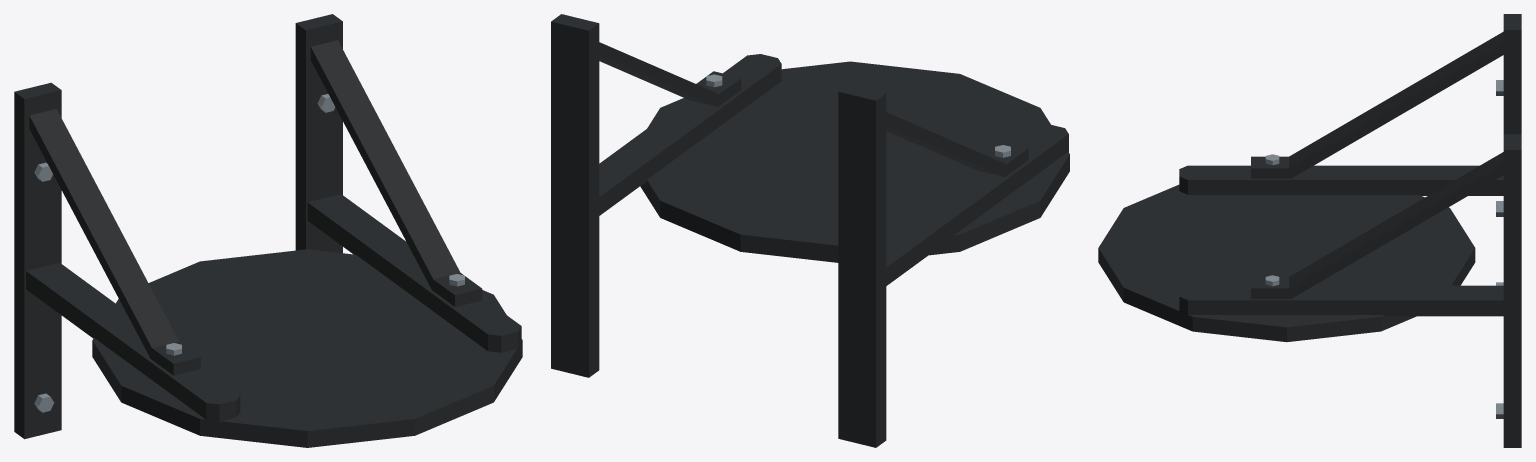
The model's file is SM_Prop_Gym_Speed_Ball_01.obj.
3 views of the same model, side by side, from view 1: azimuth 30°, elevation 25°; view 2: azimuth 150°, elevation 25°; view 3: azimuth 270°, elevation 25° (orthographic). The views are drawn at different scales.
Visible parts, largest first — view 1: SM_Prop_Gym_Speed_Ball_01_0; view 2: SM_Prop_Gym_Speed_Ball_01_0; view 3: SM_Prop_Gym_Speed_Ball_01_0.
Boxes of the visible parts, box(x1,y1,x2,y2) form: SM_Prop_Gym_Speed_Ball_01_0: box(14, 14, 522, 447); SM_Prop_Gym_Speed_Ball_01_0: box(551, 14, 1069, 447); SM_Prop_Gym_Speed_Ball_01_0: box(1098, 14, 1521, 447).
Bounding box in the file's own units: 0.7527 × 0.6566 × 0.8451.
Materials: 1 (1 with a texture image).
